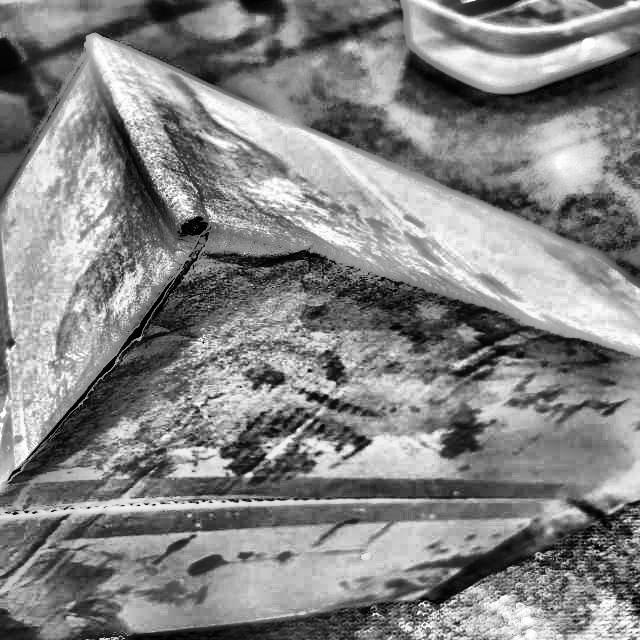box: (2, 32, 639, 639)
wet: (92, 136, 472, 472)
